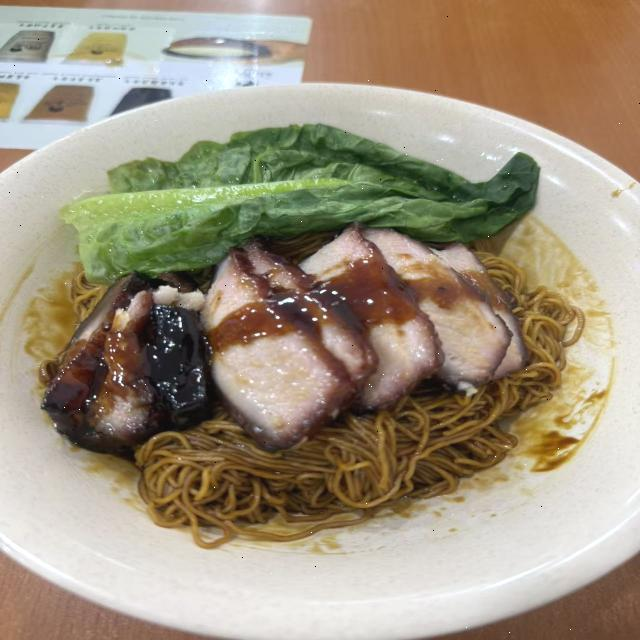Wantan Mee: (5, 90, 614, 561)
